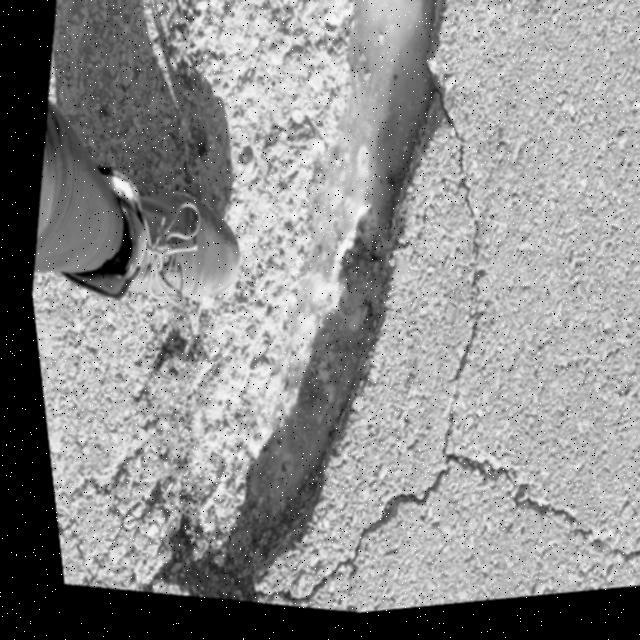pothole: (85, 0, 517, 634)
